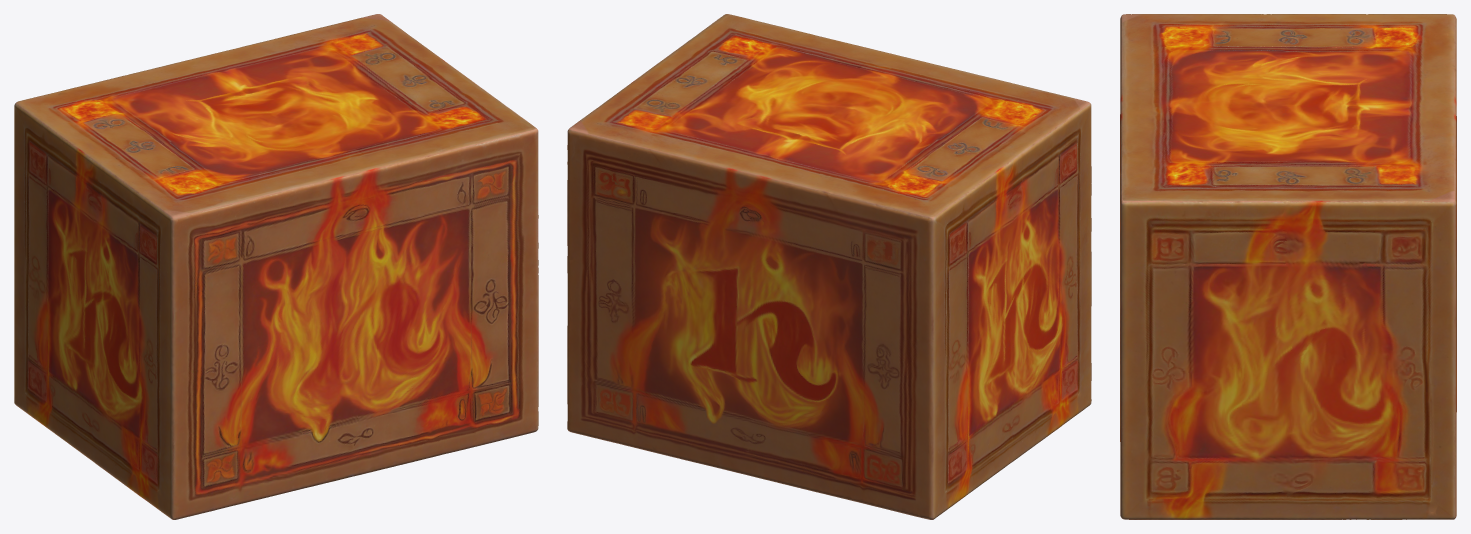
The model's file is Meshy_AI_a_fire_tile_at_a_goo_1115233252_texture.glb.
3 renders of one model, left to right at view 1: azimuth 30°, elevation 25°; view 2: azimuth 150°, elevation 25°; view 3: azimuth 270°, elevation 25°, orthographic. The views are drawn at different scales.
Size of the model in its own units: 2 by 1.59 by 1.51.
Materials: 1 (1 with a texture image).
